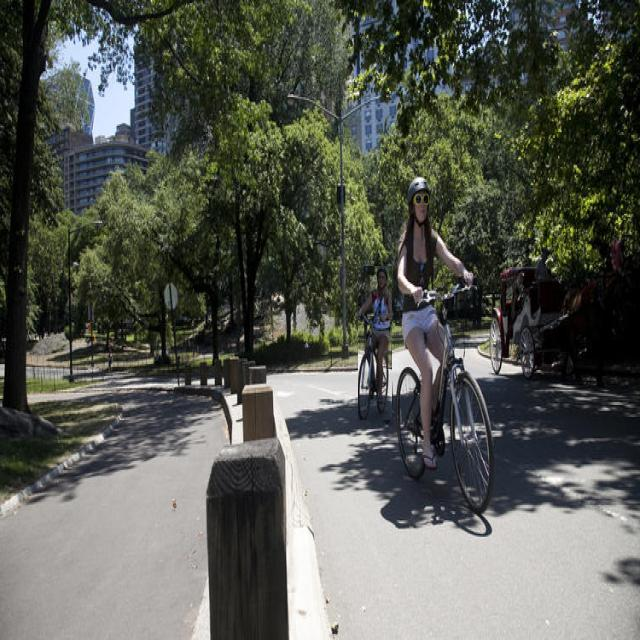bicycle: (396, 178, 492, 512), (358, 266, 392, 420)
